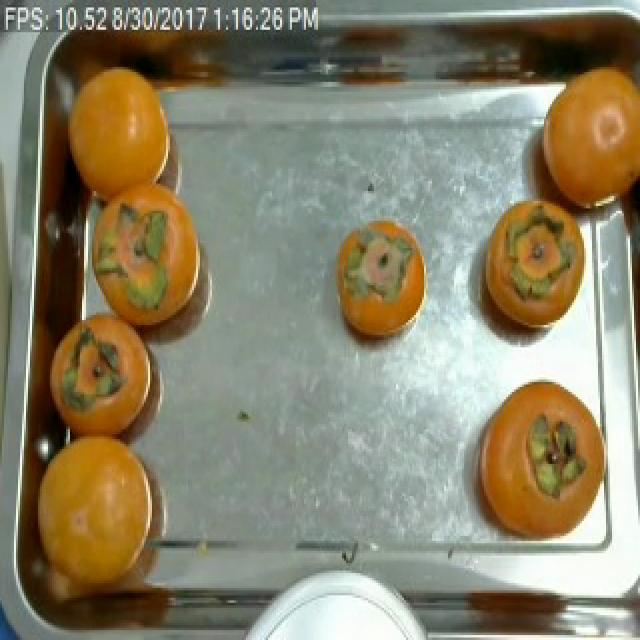Fruit: (28, 419, 192, 615), (458, 364, 604, 570), (58, 30, 188, 226), (524, 49, 640, 230), (468, 186, 588, 355), (326, 208, 438, 358)
